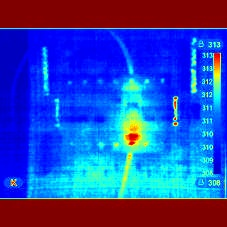High: (125, 128, 146, 154)
